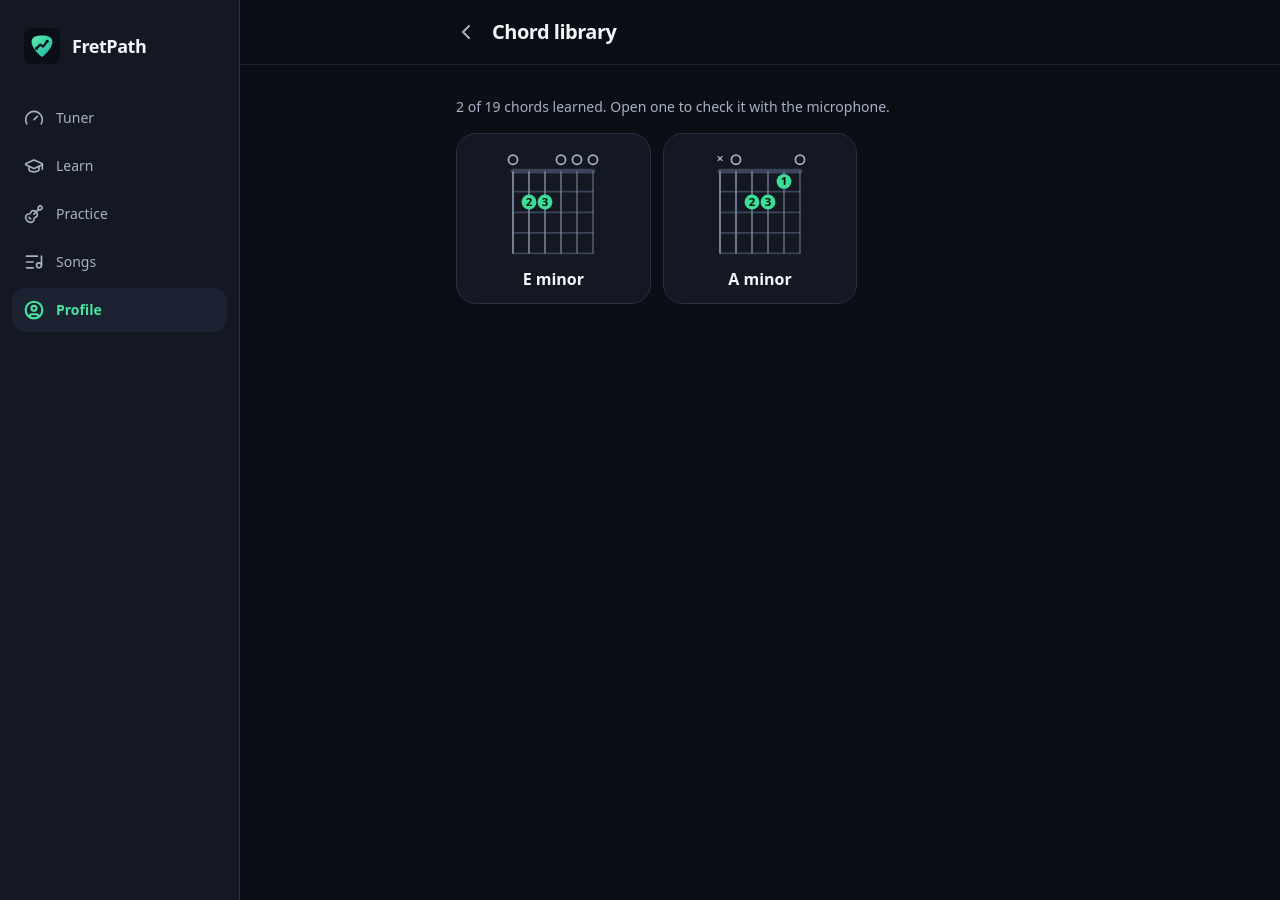
Scenario: Chord library › lists learned chords and opens a chord to check it
expect the text "2 of 19 chords learned" is shown: met, box [456, 97, 890, 116]
Step 1. Click the link "× 2 3 1 A minor" → (760, 218), box [663, 133, 857, 304]
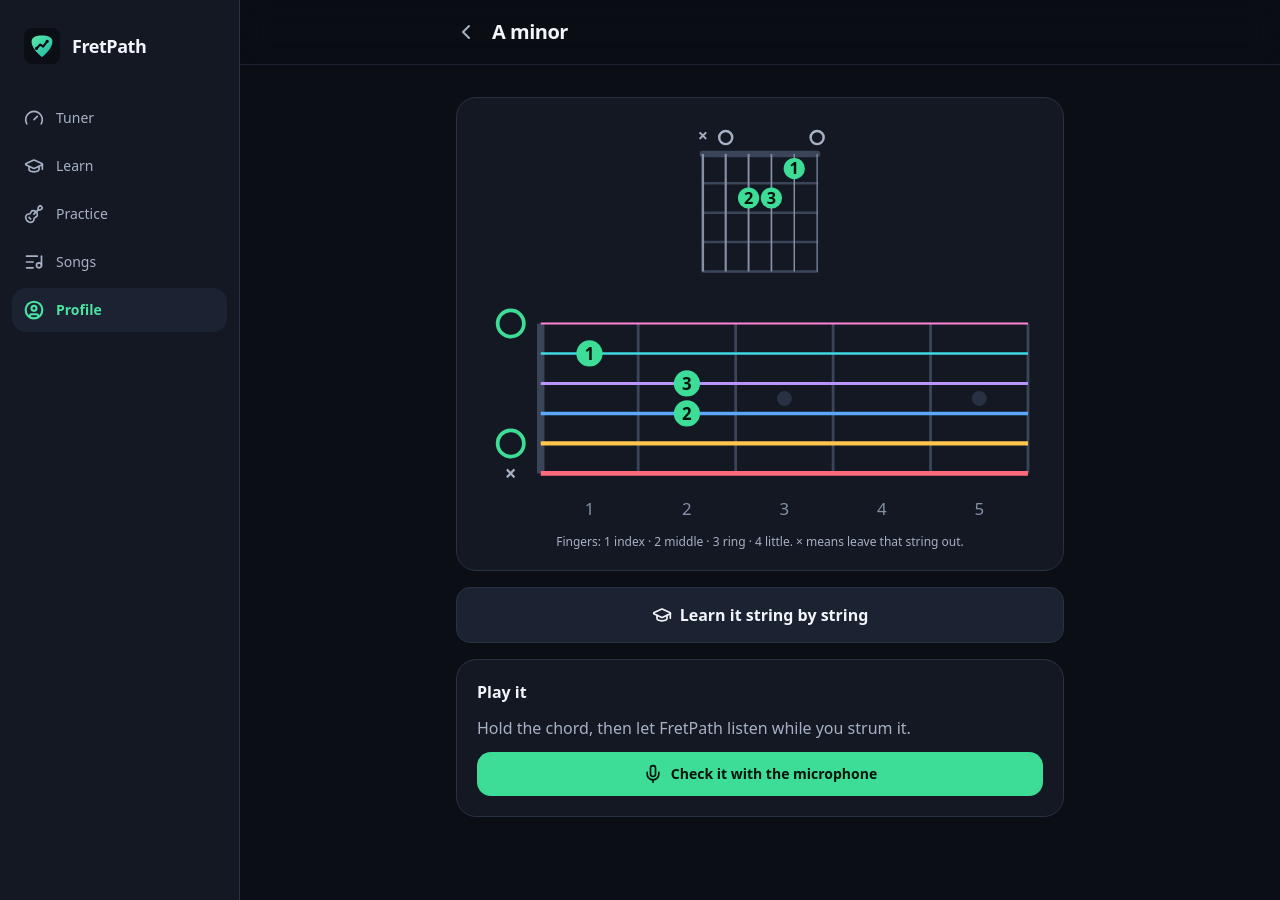
expect the picture named "A minor chord:" is shown: met, box [680, 118, 840, 284]
expect the heading "A minor" is shown: met, box [492, 18, 568, 45]
